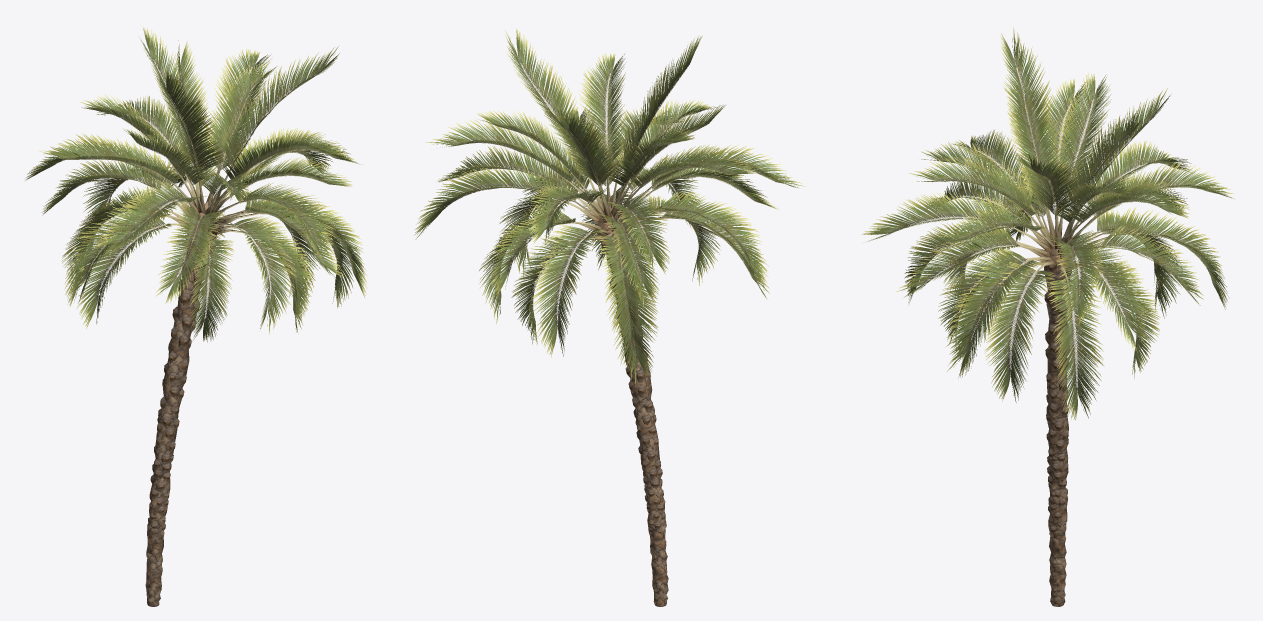
File: palm.fbx
3 views of the same model, side by side, from view 1: azimuth 30°, elevation 25°; view 2: azimuth 150°, elevation 25°; view 3: azimuth 270°, elevation 25° (orthographic). The views are drawn at different scales.
Visible parts, largest first — view 1: Tree_1, Tree_0, Tree_2, Tree_3; view 2: Tree_1, Tree_0, Tree_3, Tree_2; view 3: Tree_1, Tree_0, Tree_2, Tree_3.
Part boxes in pixels (x1,y1,x2,y2): Tree_1: (25,26,367,342); Tree_0: (145,201,216,606); Tree_2: (148,234,216,530); Tree_3: (147,142,268,251); Tree_1: (414,28,806,383); Tree_0: (597,206,668,606); Tree_3: (543,149,685,246); Tree_2: (600,239,666,533); Tree_1: (861,26,1234,420); Tree_0: (1044,236,1072,606); Tree_2: (1044,262,1071,534); Tree_3: (990,180,1137,293).
Bounding box in the file's own units: 362 × 577 × 362.
